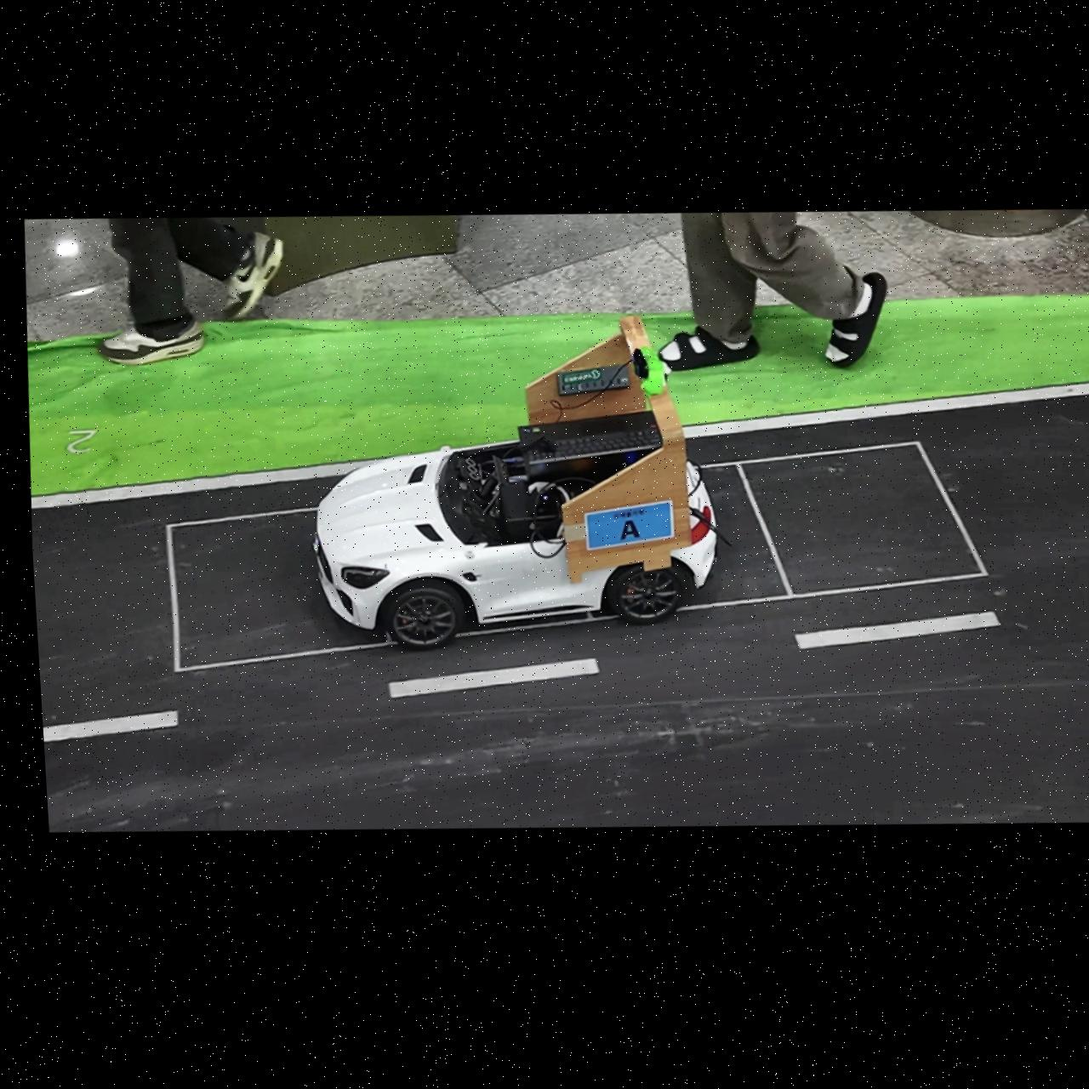broken_line: (387, 657, 599, 698), (794, 610, 1000, 649), (43, 710, 178, 741)
